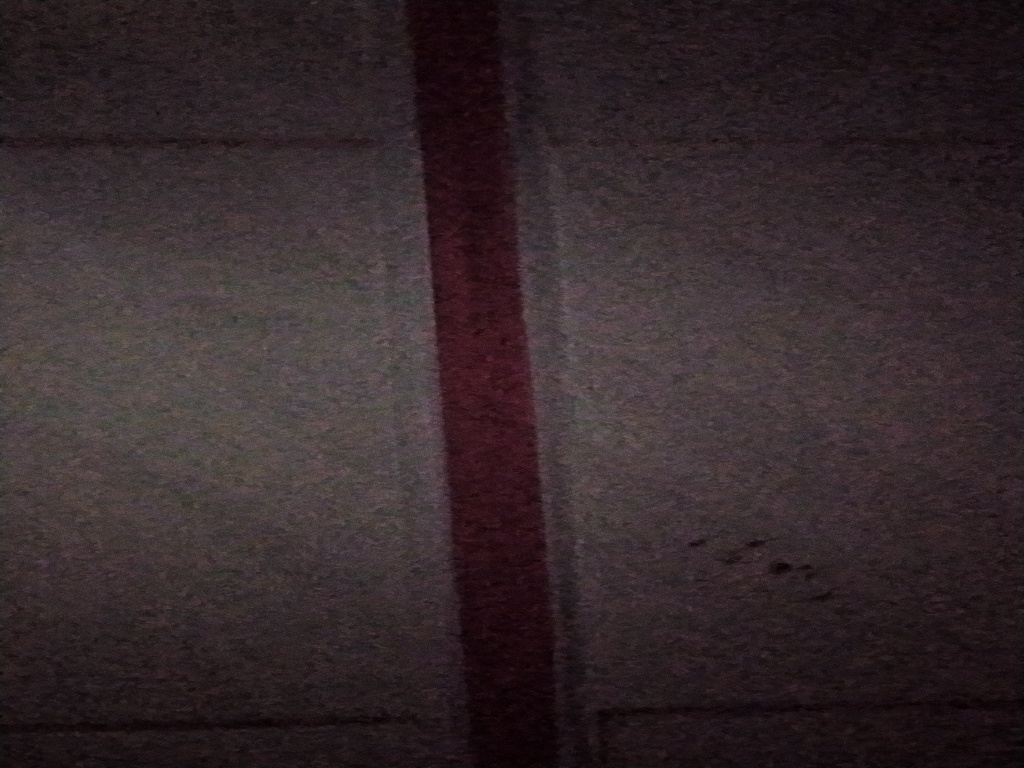reta: (361, 3, 609, 768)
